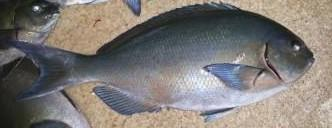fish: (5, 1, 316, 123)
